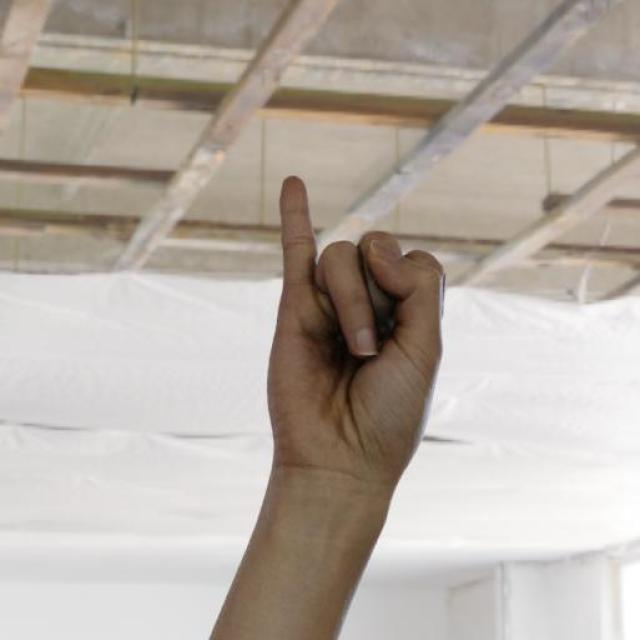I: (201, 150, 491, 530)
